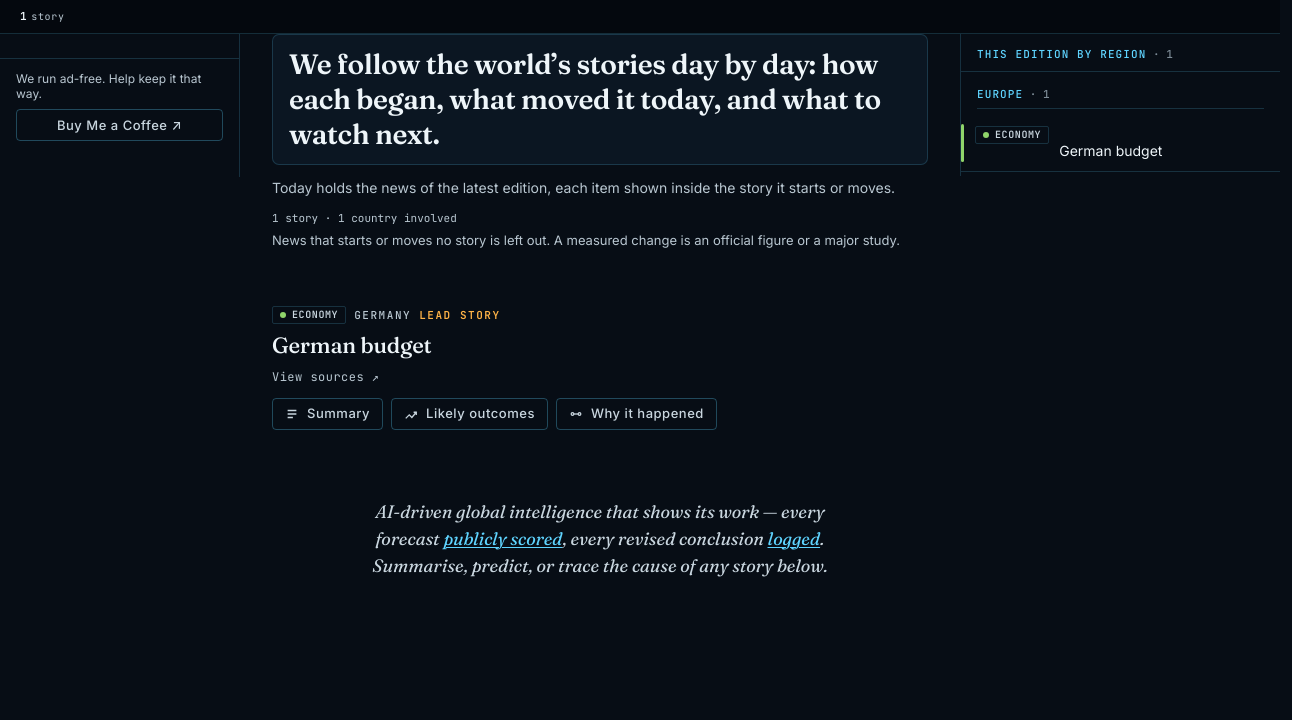
Test case: /today topics › Summary success renders the takeaways as a list from the cached reply
Click the button "Summary". click: [328, 414]
box: [272,398,383,430]
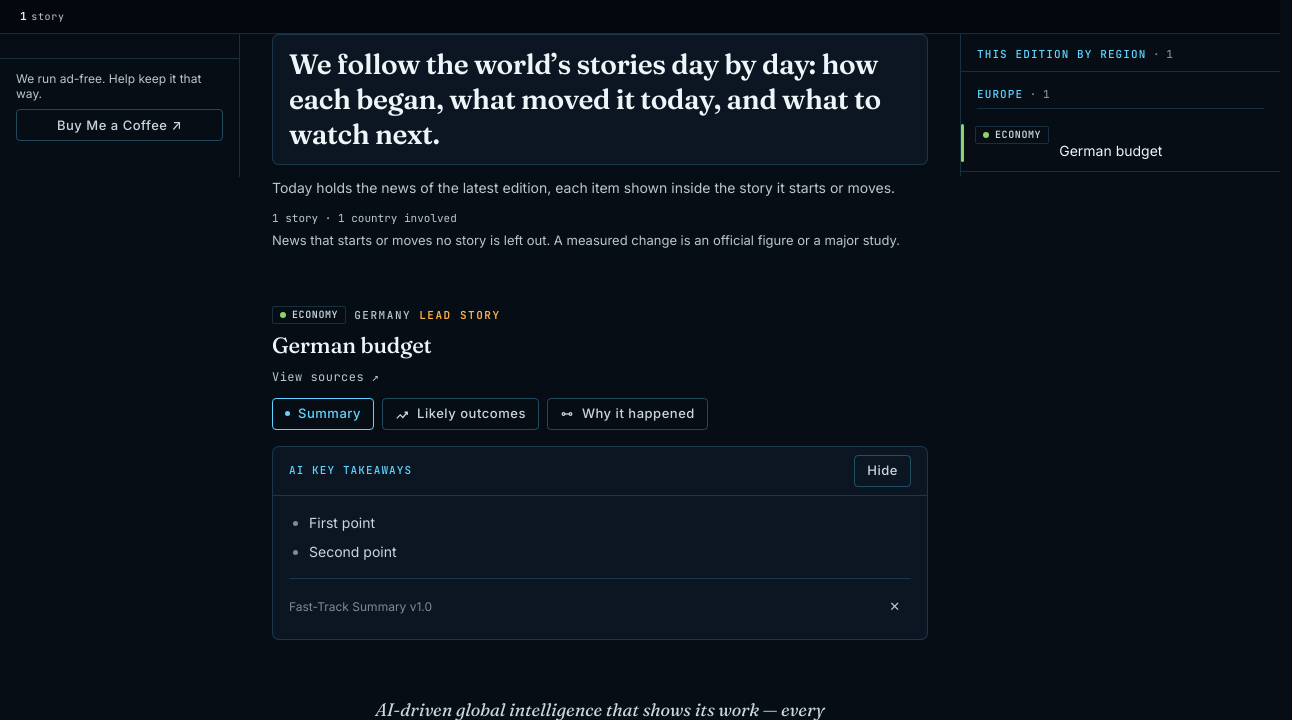
Result: the heading "AI Key Takeaways" is shown at [289,462,412,479]
Result: the list item "First point" is shown at [309,514,375,530]
Result: the list item "Second point" is shown at [309,542,396,560]
